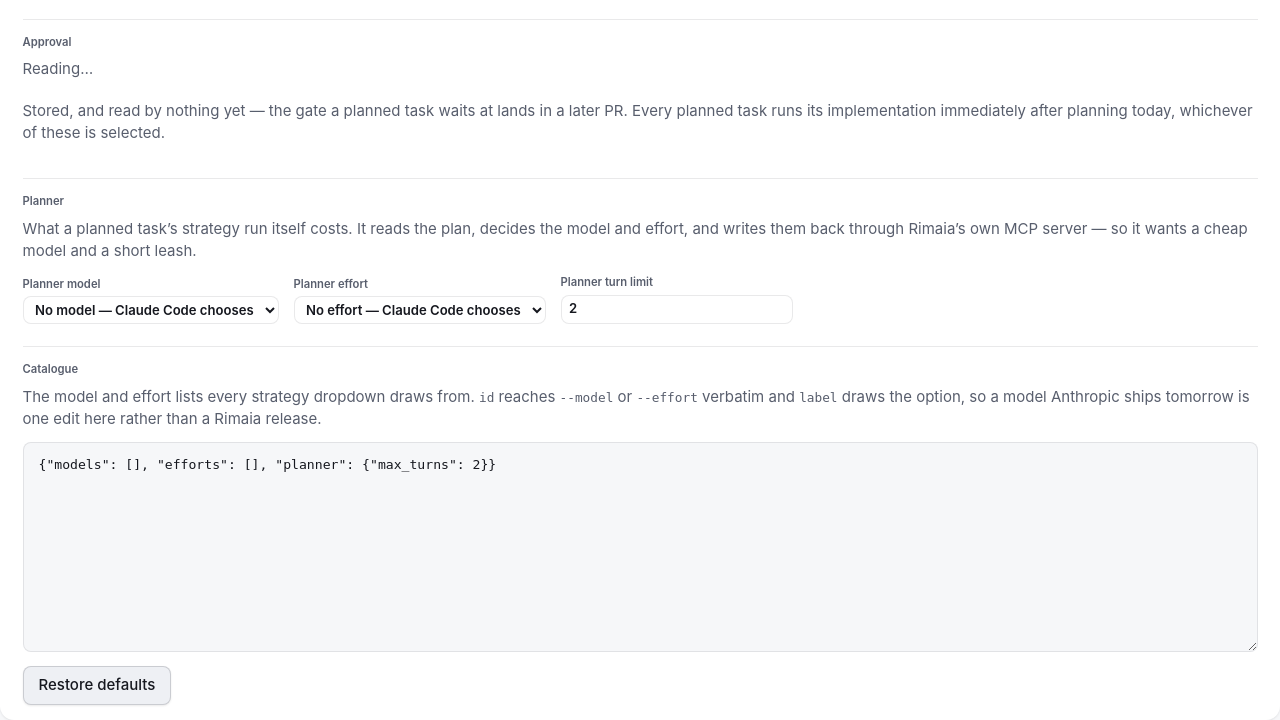
StrategySection › writes the backend's own default catalogue when Restore defaults is clicked
(page scrolled)
Expected: the text box named "Strategy catalogue" holds "{\"models\": [], \"efforts\": [], \"planner\": {\"max_turns\": 2}}", [22,442,1258,652]
Click the button "Restore defaults".
click(97, 686)  # box [22,666,171,705]
(page scrolled)
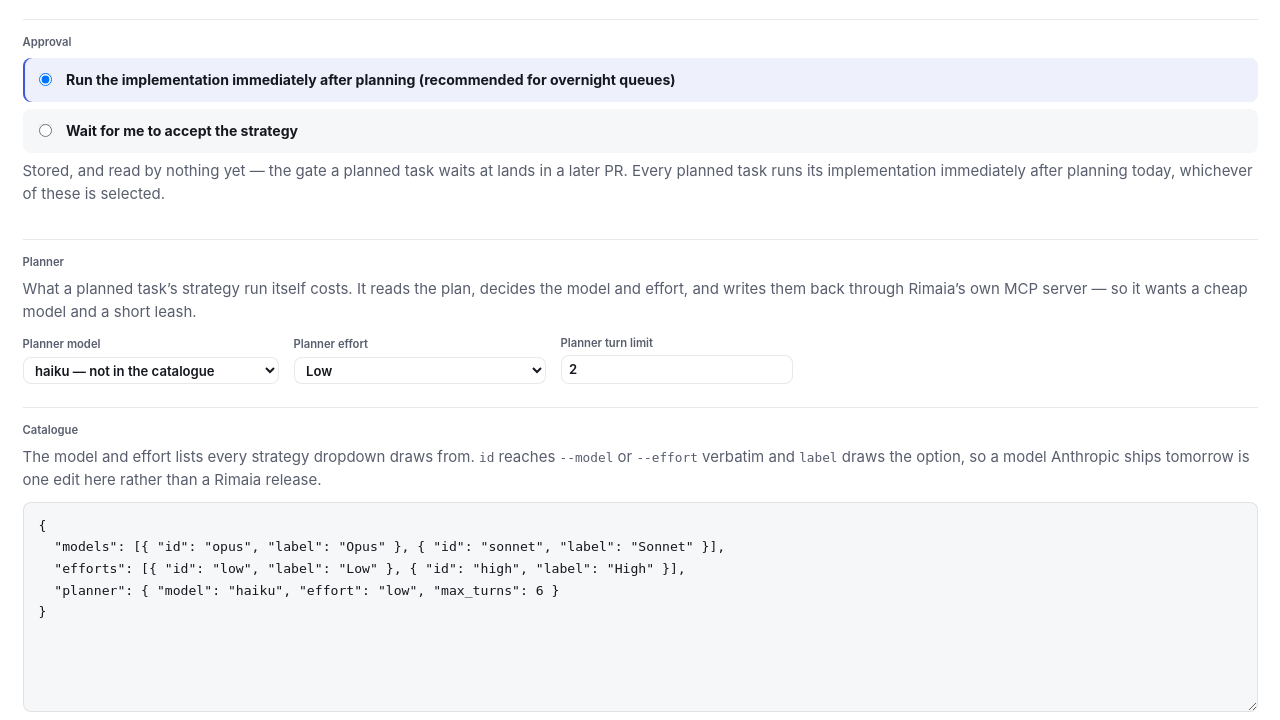
Expected: the text box named "Strategy catalogue" holds "{   \"models\": [{ \"id\": \"opus\", \"label\": \"Opus\" }, { \"id\": \"sonnet\", \"label\": \"Sonnet\" }],   \"efforts\": [{ \"id\": \"low\", \"label\": \"Low\" }, { \"id\": \"high\", \"label\"", [22,502,1258,712]
